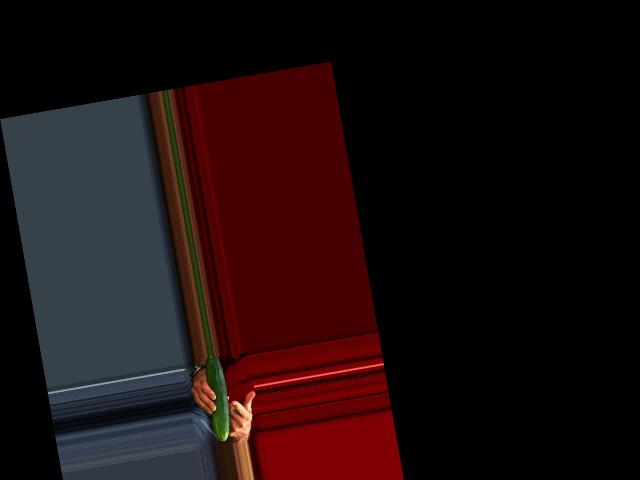cucumber: (200, 354, 235, 442)
